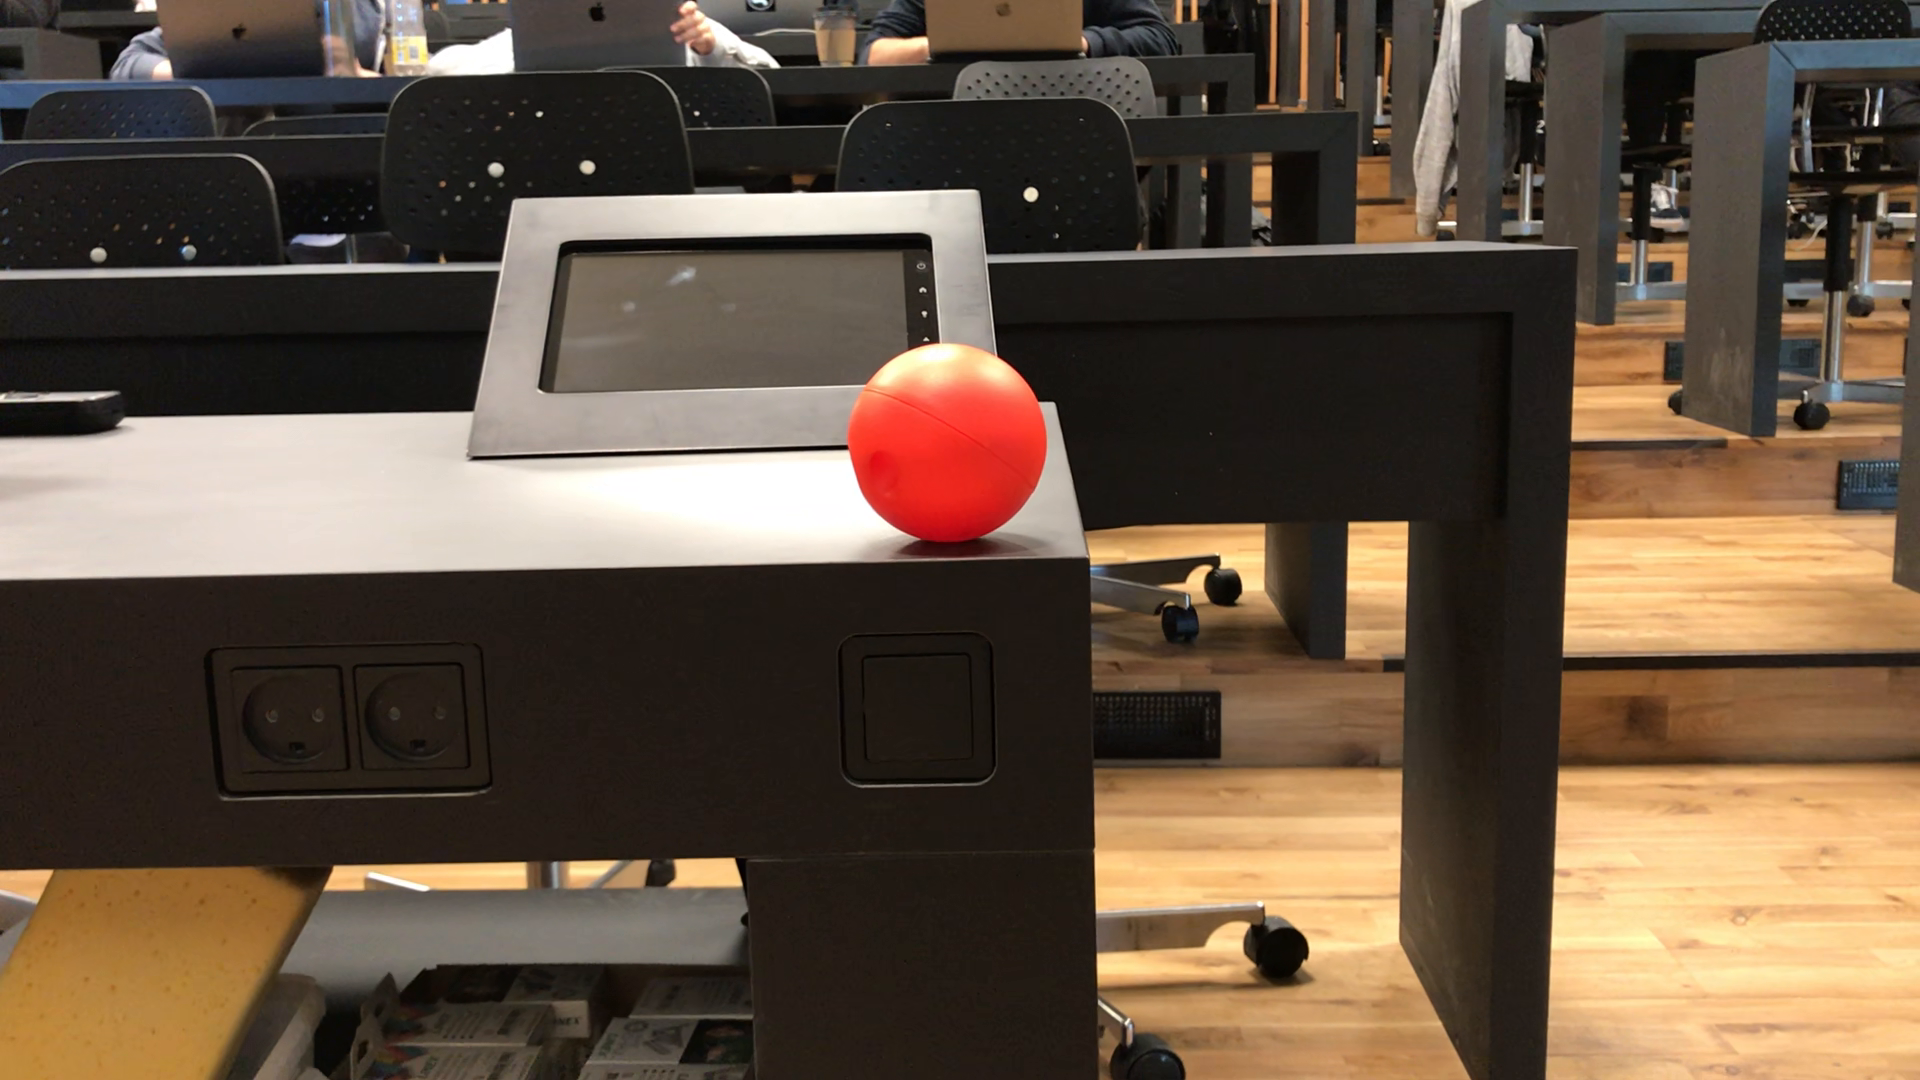Ball: (851, 338, 1054, 534)
